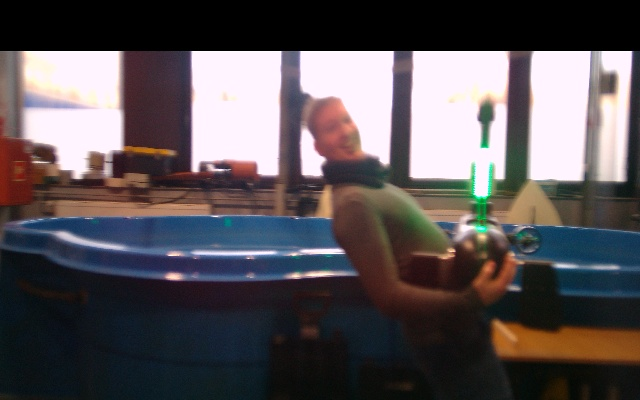green: (474, 146, 491, 204)
